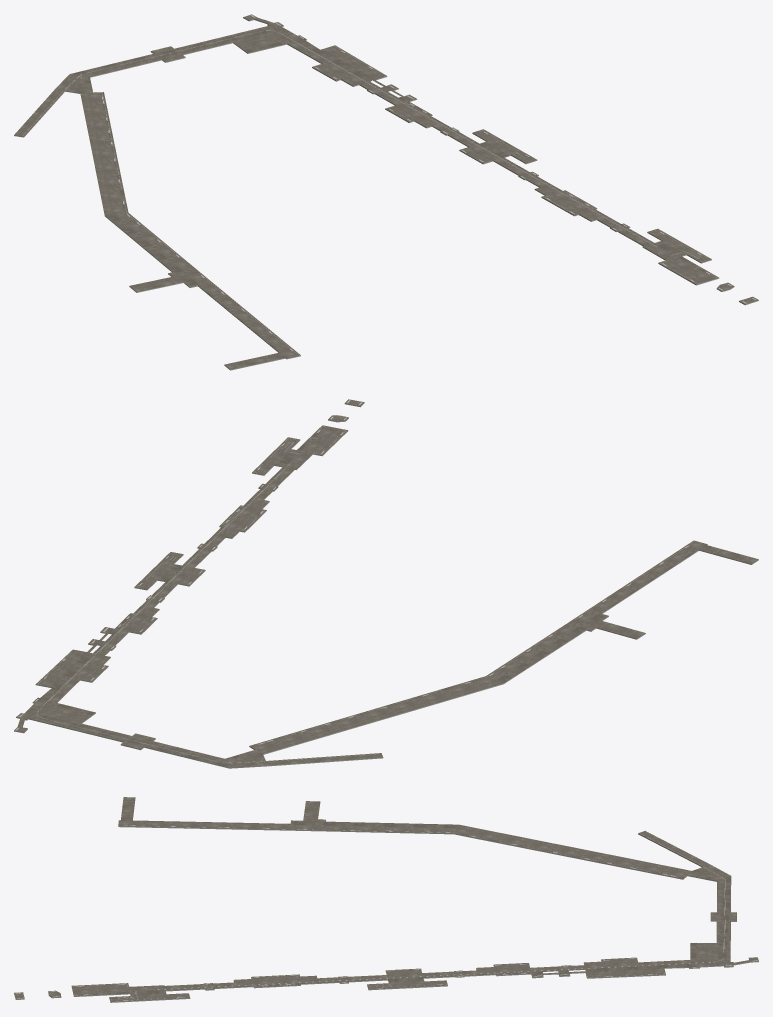
File: wharf01.fbx
The picture shows the model from 3 angles, top to bottom: view 1: azimuth 30°, elevation 25°; view 2: azimuth 150°, elevation 25°; view 3: azimuth 270°, elevation 25°; orthographic projection. The views are drawn at different scales.
Visible parts, largest first — view 1: wharf01; view 2: wharf01; view 3: wharf01.
Boxes of the visible parts, x1=… form: wharf01: x1=14, y1=14, x2=758, y2=370; wharf01: x1=14, y1=399, x2=758, y2=768; wharf01: x1=14, y1=797, x2=758, y2=1002.
Size of the model in its own units: 54918 by 102 by 84347.
